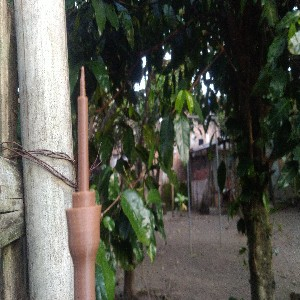solder: (65, 64, 102, 298)
